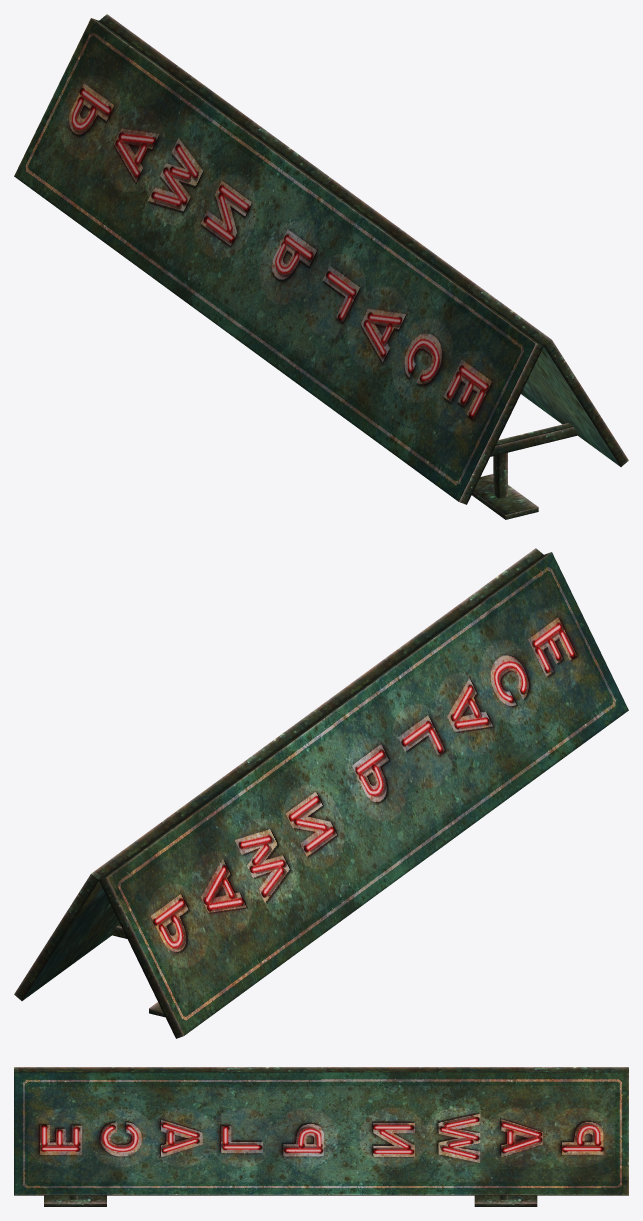
File: pawn_sign4.fbx
3 renders of one model, top to bottom at view 1: azimuth 30°, elevation 25°; view 2: azimuth 150°, elevation 25°; view 3: azimuth 270°, elevation 25°, orthographic. The views are drawn at different scales.
Visible parts, largest first — view 1: mesh_0; view 2: mesh_0; view 3: mesh_0.
Boxes of the visible parts, box(x1,y1,x2,y2) form: mesh_0: box(14, 14, 628, 519); mesh_0: box(14, 548, 628, 1038); mesh_0: box(14, 1067, 628, 1206).
Size of the model in its own units: 221 by 236 by 1000.
Materials: 1 (1 with a texture image).
